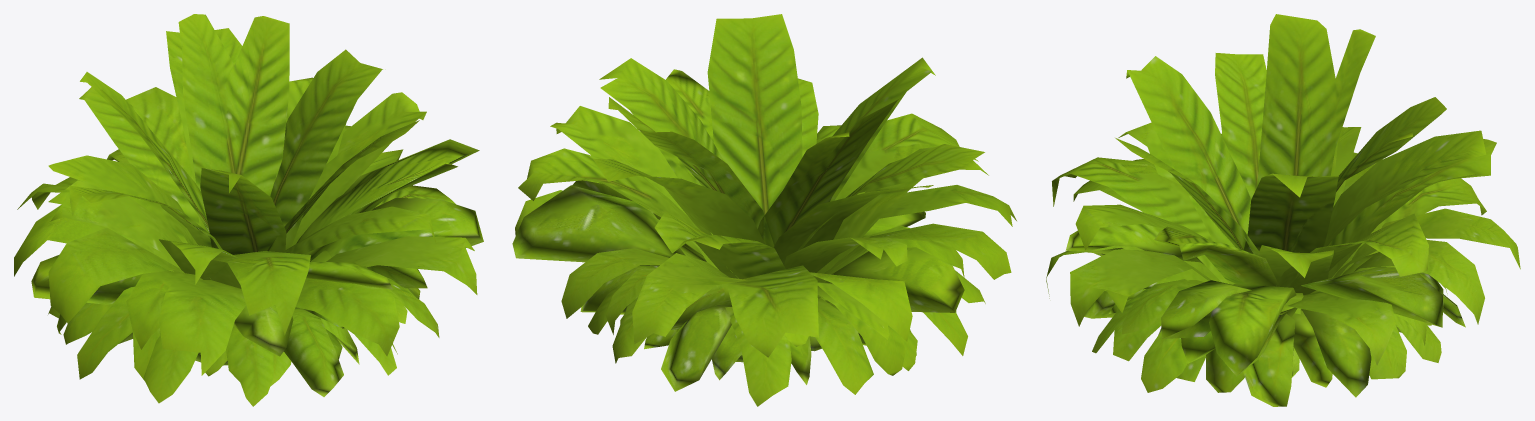
Rendered from fern.glb.
3 renders of one model, left to right at view 1: azimuth 30°, elevation 25°; view 2: azimuth 150°, elevation 25°; view 3: azimuth 270°, elevation 25°, orthographic.
Bounding box in the file's own units: 1 × 0.5983 × 0.9983.
Materials: 1 (1 with a texture image).
